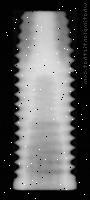Biomet 3i: (10, 9, 77, 190)
